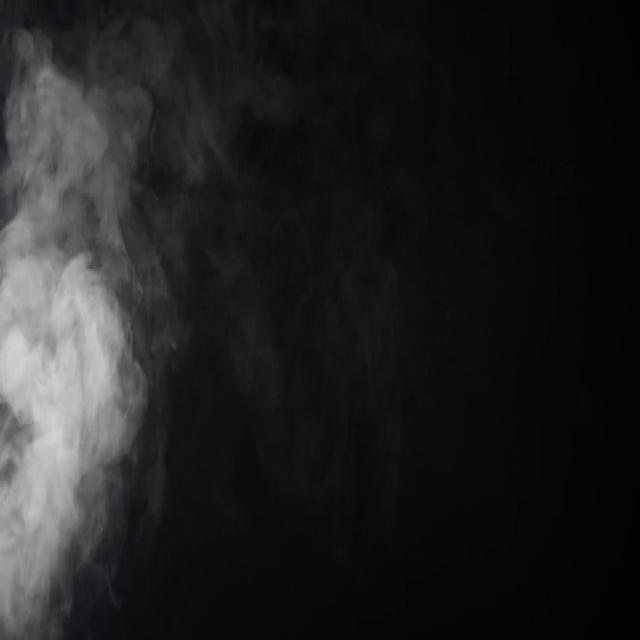smoke: (0, 215, 152, 635), (5, 26, 138, 256), (128, 178, 274, 358), (141, 7, 276, 190)
